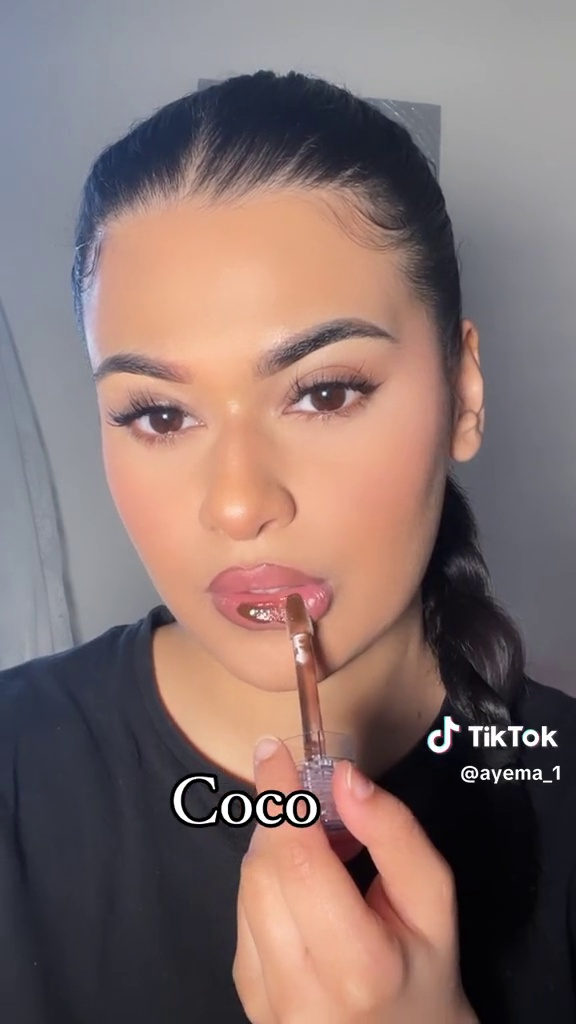train' :'yolo_data/train/images',: (269, 587, 370, 839)
